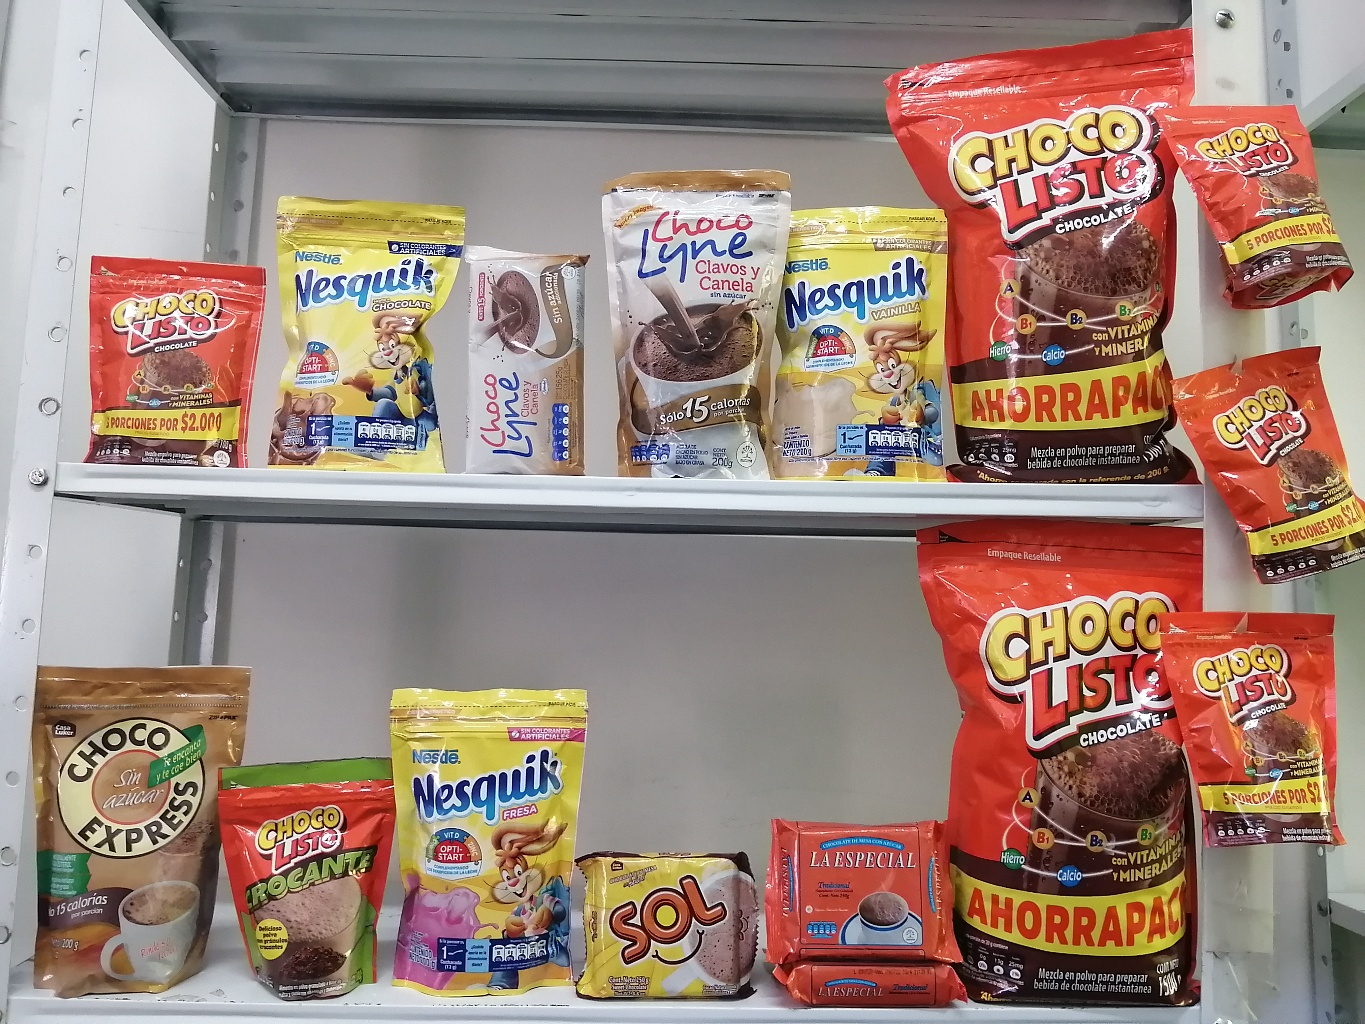COL0170102DYP10000: (196, 739, 411, 1001)
COL0170103DYP1,500: (864, 8, 1231, 496)
COL0170303DYP20000: (243, 177, 475, 475)
COL0170305DYP20000: (371, 668, 594, 1004)
COL0170306DYP20000: (748, 185, 968, 494)
